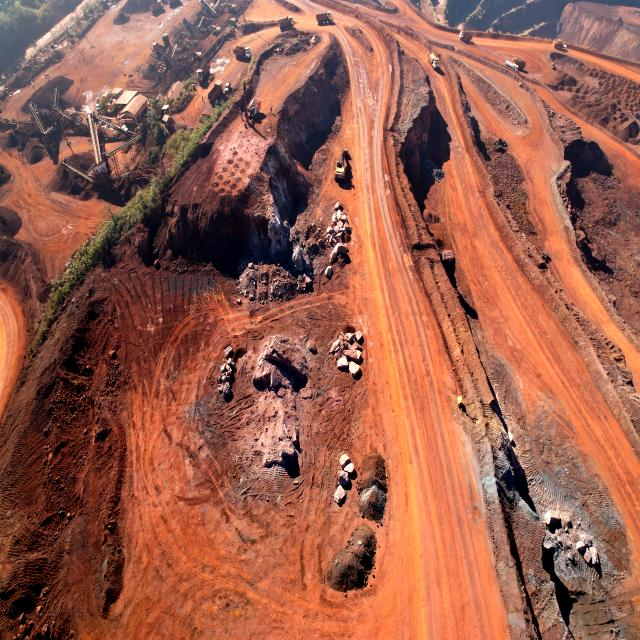Blast rig: (242, 97, 260, 124)
Dumper truck: (280, 16, 295, 30), (197, 67, 210, 83), (316, 12, 333, 24), (509, 57, 525, 68), (234, 47, 250, 58), (151, 1, 164, 14), (150, 43, 162, 56), (429, 54, 440, 68), (461, 32, 472, 42)
Excavator: (335, 152, 348, 180), (208, 24, 221, 36), (222, 0, 235, 12), (190, 50, 203, 61)
